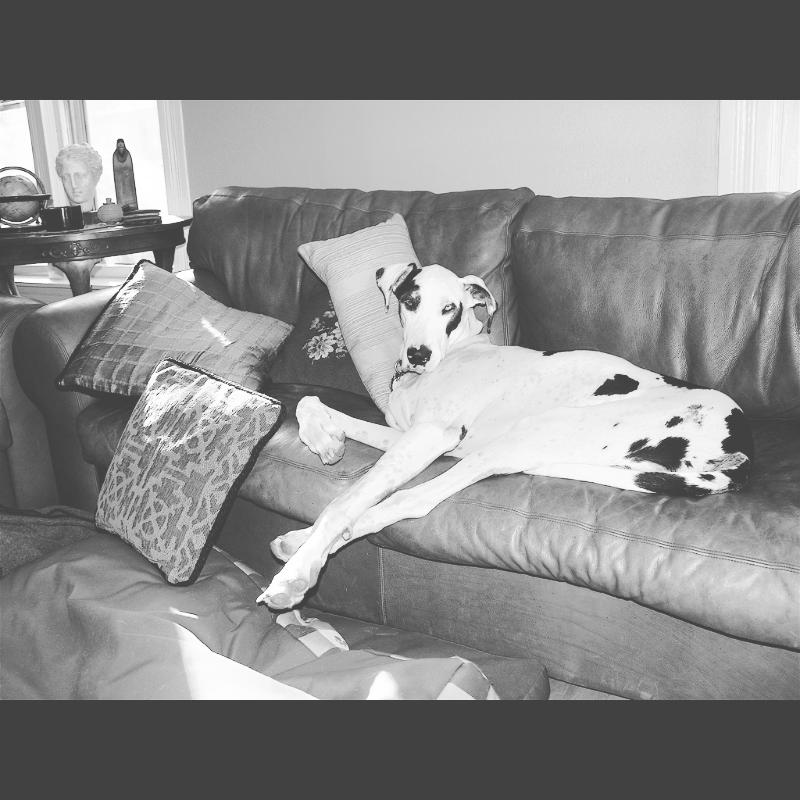pillow: (85, 358, 291, 574), (48, 250, 282, 416), (296, 220, 436, 439), (290, 295, 390, 407)
